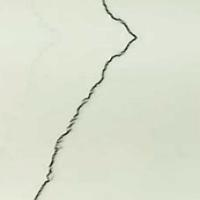crack: (27, 0, 136, 199)
